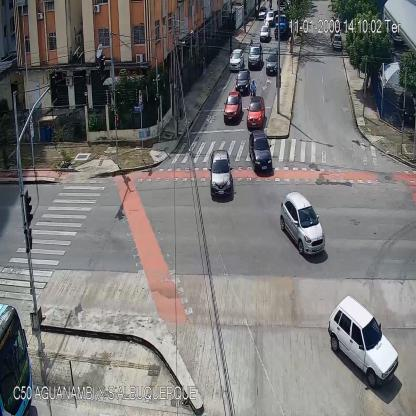bus: (1, 303, 35, 416)
car: (327, 296, 398, 385), (281, 191, 325, 256), (209, 150, 233, 202), (249, 131, 273, 178), (223, 89, 242, 125), (248, 97, 264, 130), (236, 70, 249, 97), (248, 46, 262, 70), (229, 48, 244, 68), (266, 50, 278, 74), (260, 26, 270, 42), (258, 5, 267, 21), (332, 36, 341, 50), (266, 12, 274, 26)
motorbike: (250, 80, 256, 96)
person: (201, 54, 207, 78), (178, 95, 182, 120), (362, 76, 366, 98), (291, 38, 293, 56)
truck: (274, 15, 289, 44)
